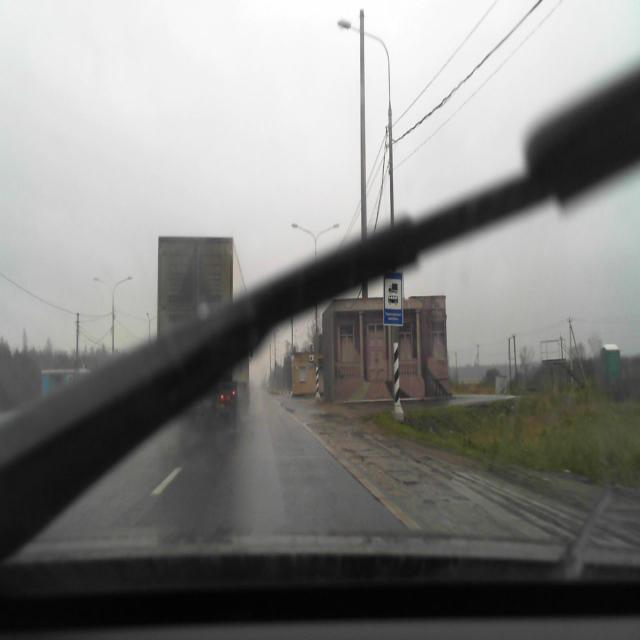road sign: (384, 272, 403, 325)
